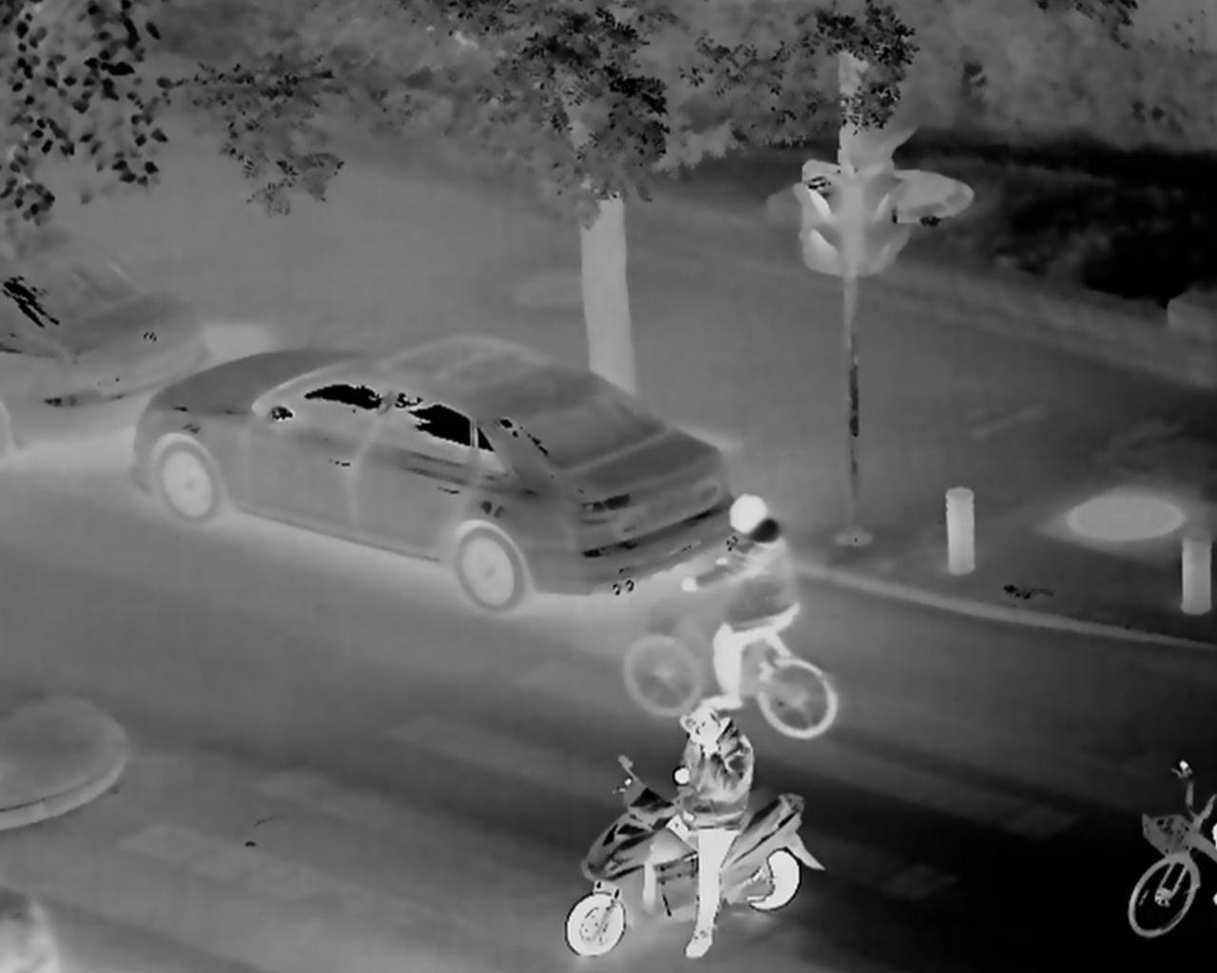person: (645, 684, 757, 962), (702, 496, 809, 714)
